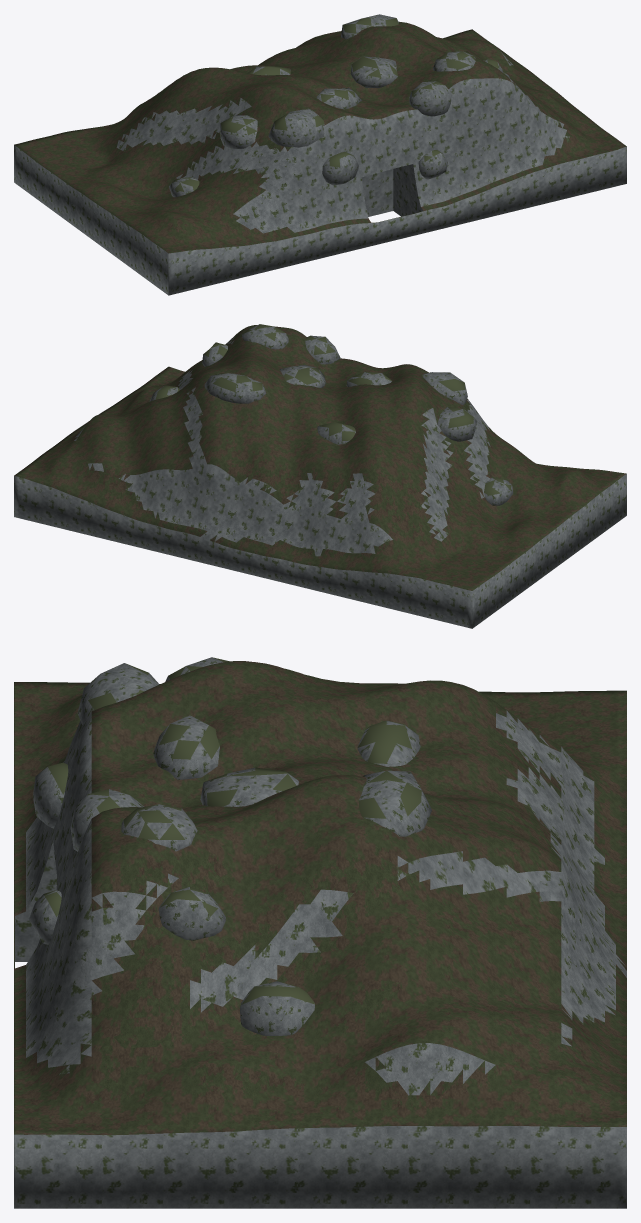
Rendered from EXIT_Hillside.fbx.
The picture shows the model from 3 angles, top to bottom: view 1: azimuth 30°, elevation 25°; view 2: azimuth 150°, elevation 25°; view 3: azimuth 270°, elevation 25°; orthographic projection. The views are drawn at different scales.
Parts seen in each view (by area): view 1: EXIT_Hillside; view 2: EXIT_Hillside; view 3: EXIT_Hillside.
Part boxes in pixels (x1,y1,x2,y2): EXIT_Hillside: [14, 14, 626, 295]; EXIT_Hillside: [14, 324, 626, 628]; EXIT_Hillside: [14, 657, 626, 1208].
Bounding box in the file's own units: 48 × 13.71 × 28.05.
